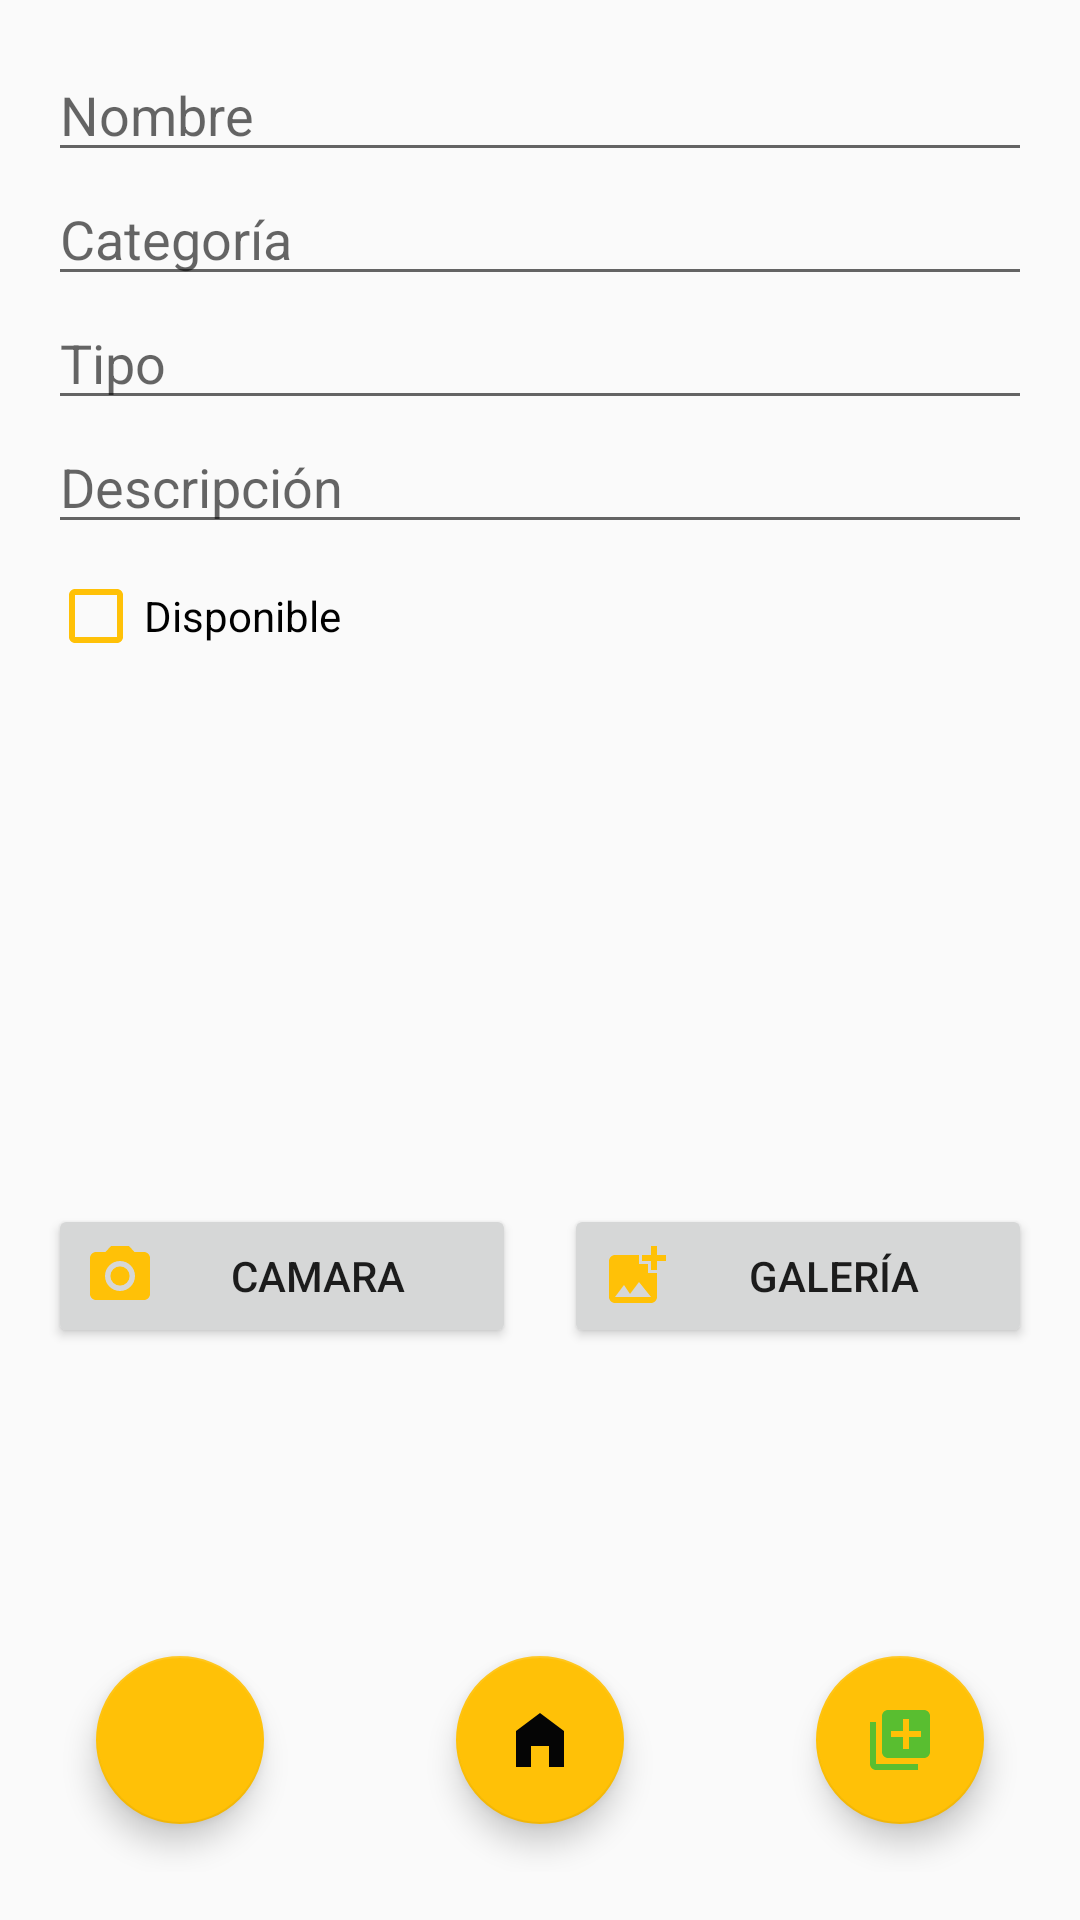

Locate icon controls on the screen. Image size 1080 x 1920, boxes as (x1, y1, x2, y2).
home: (456, 1656, 624, 1824)
